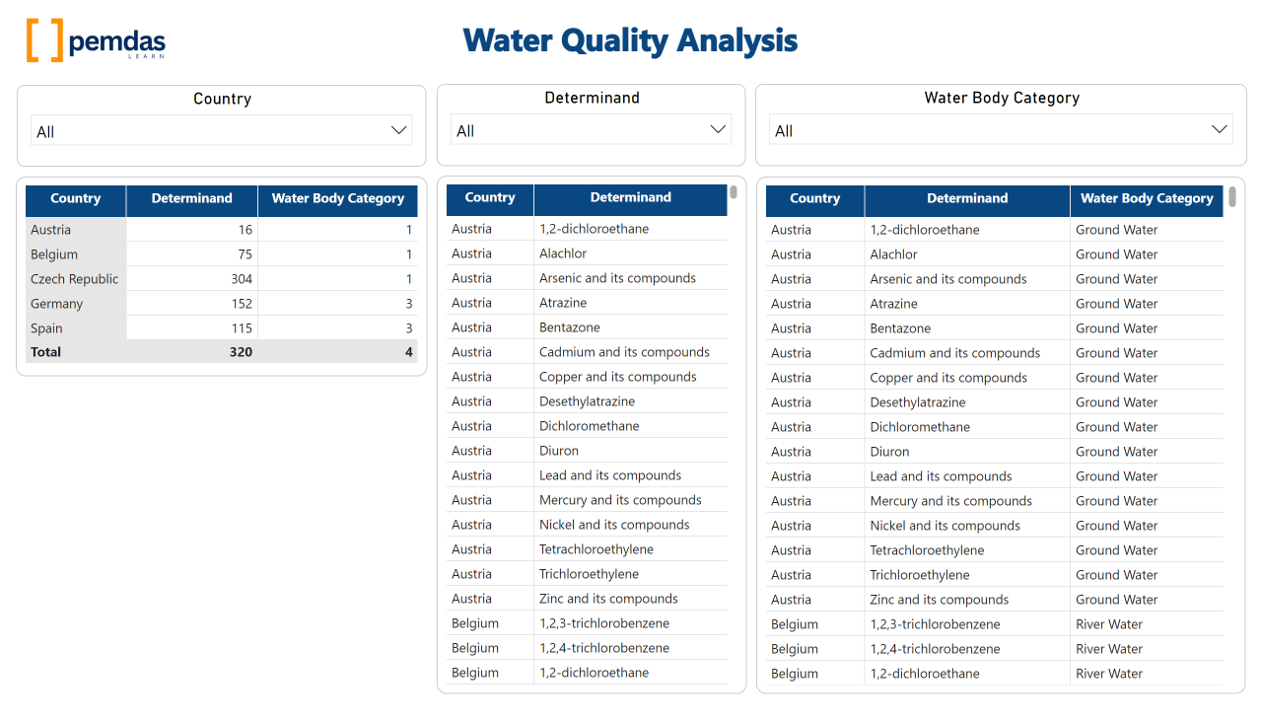

Layout of this report page (visuals, bound fields, positions):
{"tool":"powerbi","page":{"name":"Page 2","canvas":[1280,720],"ordinal":1},"visuals":[{"type":"group","id":"g1","title":"Group 1","box":[16.6,85.6,415.7,82.9],"z":0},{"type":"slicer","title":"Determinand","fields":{"Values":["gold_table.Determinand_Label"]},"box":[442.8,85.4,313.3,83.3],"z":1000},{"type":"slicer","title":"Water Body Category","fields":{"Values":["gold_table.water_body"]},"box":[766.2,85.4,498.9,83.3],"z":2000},{"type":"slicer","title":"Country","fields":{"Values":["gold_table.Country_Name"]},"box":[16.6,85.6,415.7,82.9],"z":3000,"group":"g1"},{"type":"tableEx","fields":{"Values":["gold_table.Country_Name","gold_table.Determinand_Label","gold_table.water_body"]},"box":[16.2,178.8,417.5,202.5],"z":3000},{"type":"tableEx","fields":{"Values":["gold_table.Country_Name","gold_table.Determinand_Label"]},"box":[443.3,177.8,314.4,525.6],"z":4000},{"type":"tableEx","fields":{"Values":["gold_table.Country_Name","gold_table.Determinand_Label","gold_table.water_body"]},"box":[766.7,178.9,496.7,524.4],"z":5000},{"type":"textbox","box":[436.7,11.7,405,61.7],"z":7001},{"type":"image","box":[21.7,10,160,61.7],"z":7002}]}

Visuals, with their boxes in screenshot pixels (x1, y1, x2, y2), scaled from the page's 1280x720 canvas onto the 1262x720 screenshot:
"Group 1" group: box(16, 86, 426, 168)
"Determinand" slicer: box(437, 85, 745, 169)
"Water Body Category" slicer: box(755, 85, 1247, 169)
"Country" slicer: box(16, 86, 426, 168)
tableEx - gold_table.Country_Name x gold_table.Determinand_Label: box(16, 179, 428, 381)
tableEx - gold_table.Country_Name x gold_table.Determinand_Label: box(437, 178, 747, 703)
tableEx - gold_table.Country_Name x gold_table.Determinand_Label: box(756, 179, 1246, 703)
textbox: box(431, 12, 830, 73)
image: box(21, 10, 179, 72)
